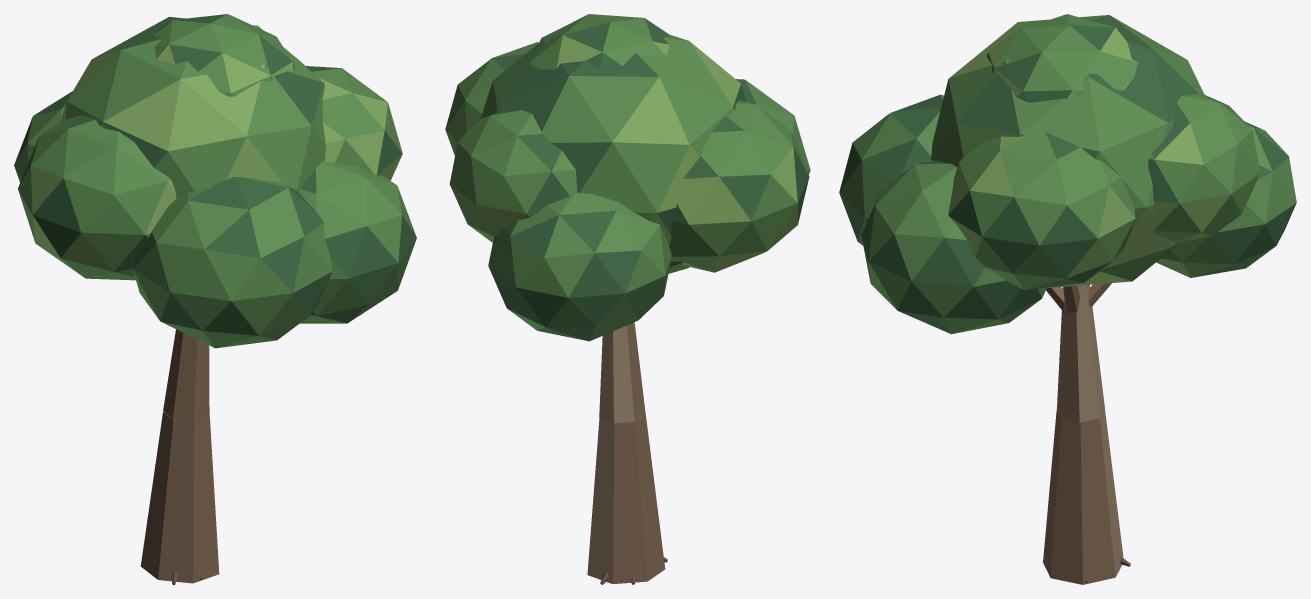
File: tree_oak_01.glb
The picture shows the model from 3 angles, left to right: view 1: azimuth 30°, elevation 25°; view 2: azimuth 150°, elevation 25°; view 3: azimuth 270°, elevation 25°; orthographic projection. The views are drawn at different scales.
Parts seen in each view (by area): view 1: tree_oak_01; view 2: tree_oak_01; view 3: tree_oak_01.
Boxes of the visible parts, left/top/right/bottom form: tree_oak_01: left=14, top=14, right=416, bottom=584; tree_oak_01: left=445, top=14, right=810, bottom=584; tree_oak_01: left=839, top=14, right=1296, bottom=584.
Size of the model in its own units: 4.17 by 6.17 by 4.62.
